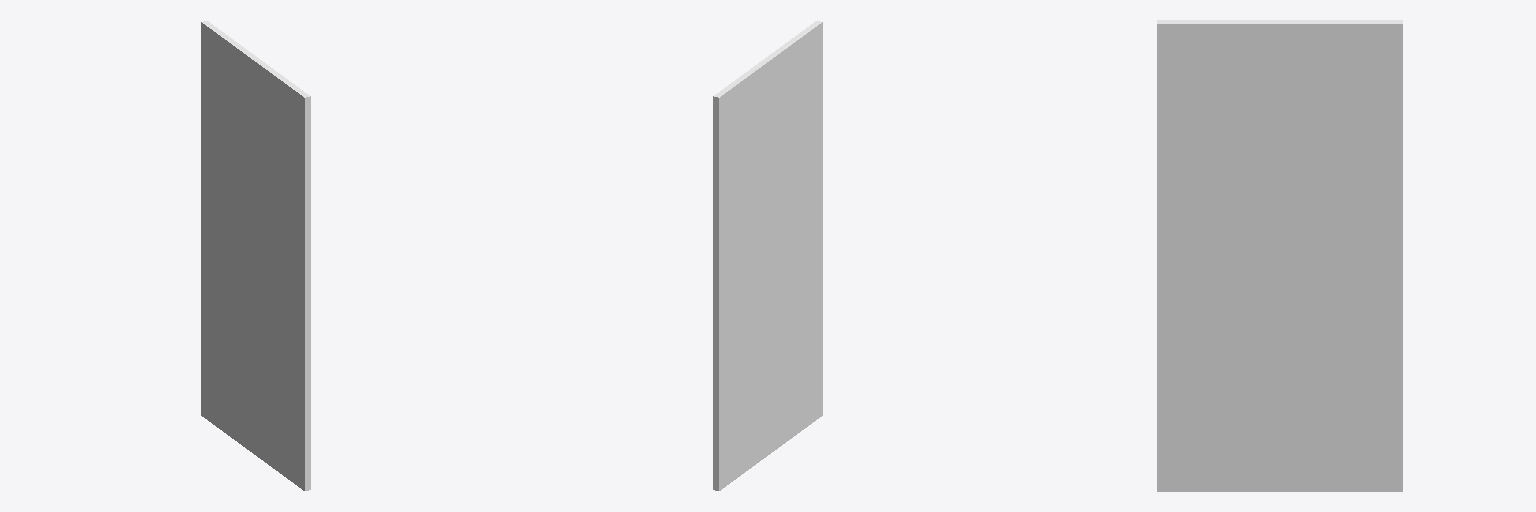
URDF robot description (wall1_8.urdf):
<?xml version="1.0" ?>
<robot name="wall1_8.urdf">
  <link name="baseLink">
    <inertial>
      <origin rpy="0 0 0" xyz="0 0 0"/>
       <mass value="0.0"/>
       <inertia ixx="0" ixy="0" ixz="0" iyy="0" iyz="0" izz="0"/>
    </inertial>
    <visual>
      <origin rpy="0 0 0" xyz="0 0 0"/>
      <geometry>
        <mesh filename="wall1_8.obj" scale="1.0 1.0 1.0"/>
      </geometry>
      <material name="white">
       <color rgba="1 1 1 1"/>
     </material>
    </visual>
    <collision concave="yes">
      <origin rpy="0 0 0" xyz="0 0 0"/>
      <geometry>
        <mesh filename="wall1_8.obj" scale="1.0 1.0 1.0"/>
        <!-- You could also specify the collision (for the wall1_8) with a "box" tag: -->
        <!-- <box size=".06 .06 .06"/> -->
      </geometry>
    </collision>
  </link>
</robot>
        

--- Render facts (derived) ---
Views: 3 orthographic renders of the robot side by side, from view 1: azimuth 30°, elevation 25°; view 2: azimuth 150°, elevation 25°; view 3: azimuth 270°, elevation 25°.
Robot: wall1_8.urdf — 1 links, 0 joints (none); root link baseLink; default pose: all joints at 0.
Visible links, largest first — view 1: baseLink; view 2: baseLink; view 3: baseLink.
Link boxes in pixels (x1,y1,x2,y2): baseLink: [201, 21, 310, 490]; baseLink: [713, 21, 822, 490]; baseLink: [1157, 20, 1402, 491].
Size in the robot's own frame: 0.091 by 2.75 by 5.76 metres.
Meshes: 1 distinct files referenced, 1 mesh visuals loaded (1 OBJ).
